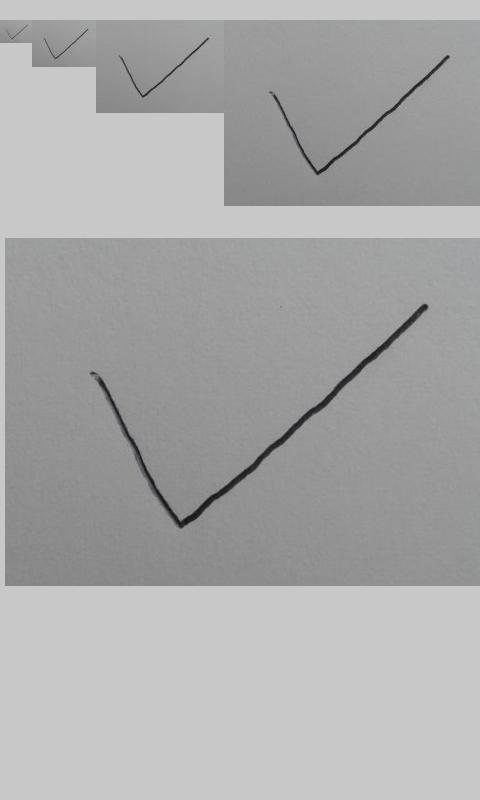check_box: (90, 302, 426, 530), (270, 55, 448, 176), (119, 38, 209, 98), (44, 29, 88, 59), (6, 24, 28, 39)
